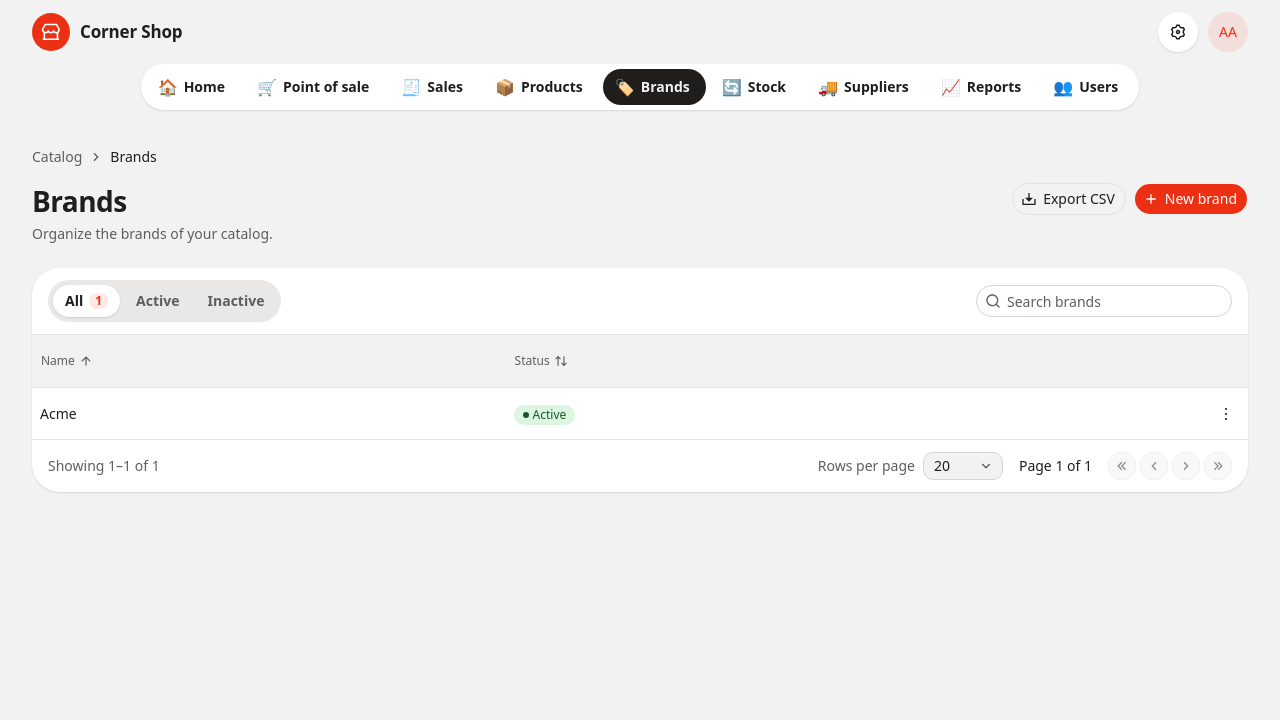
BrandListPage › deactivates a brand after confirmation
Check: the button "Acme" is shown, box [40,404,77,424]
Step 1. Click the button named "Actions" → (1226, 414), box [1212,400,1240,428]
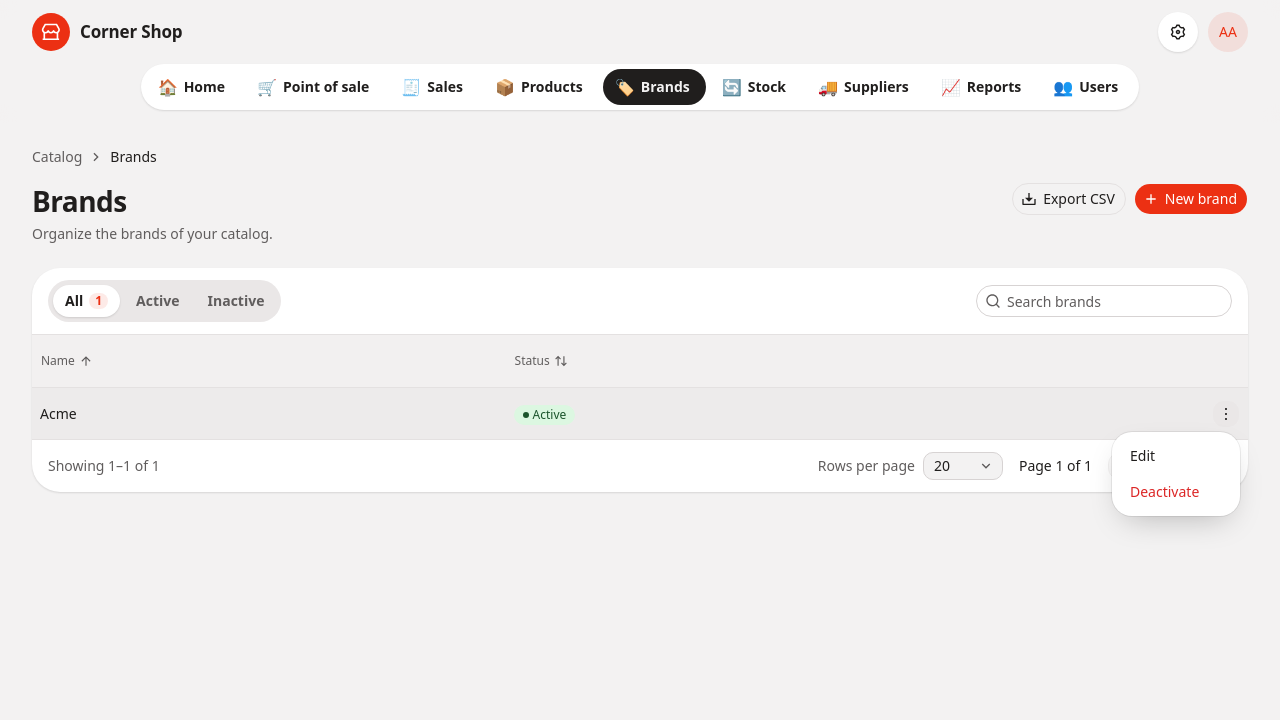
Step 2. Click the menu item "Deactivate" → (1165, 492), box [1130,482,1199,501]
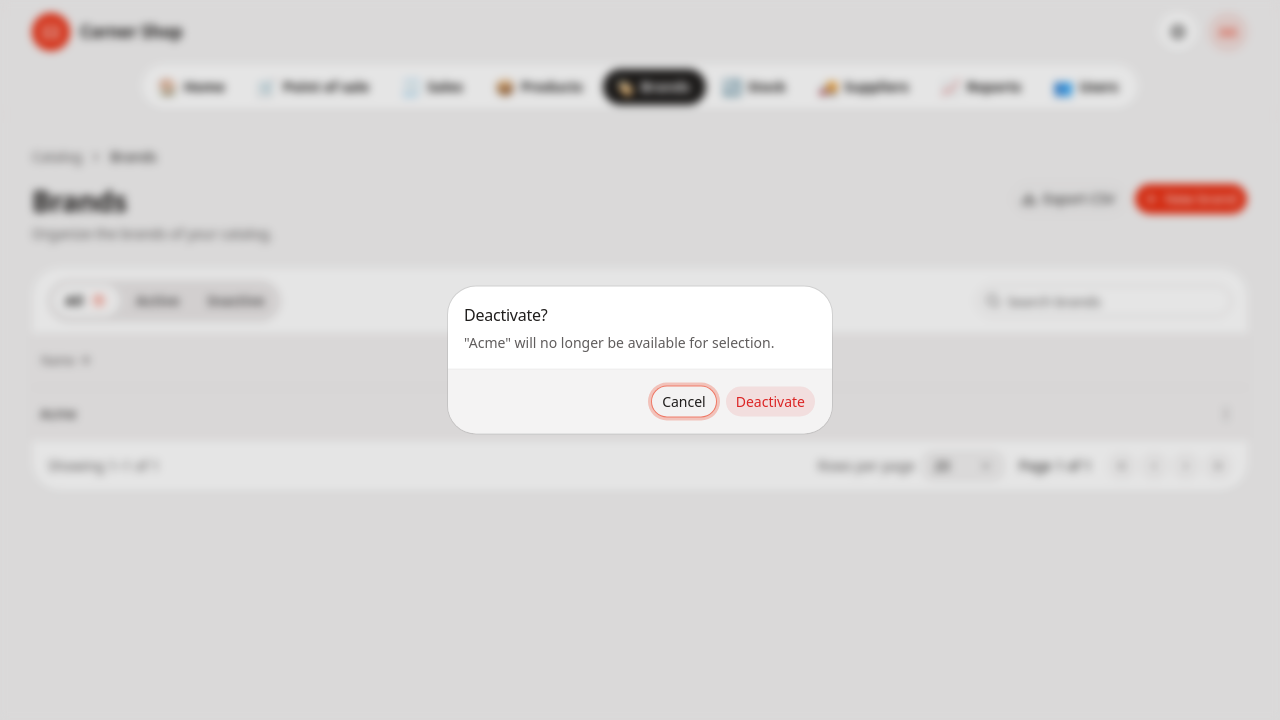
Step 3. Click the button "Deactivate" → (770, 402), box [725,386,816,418]
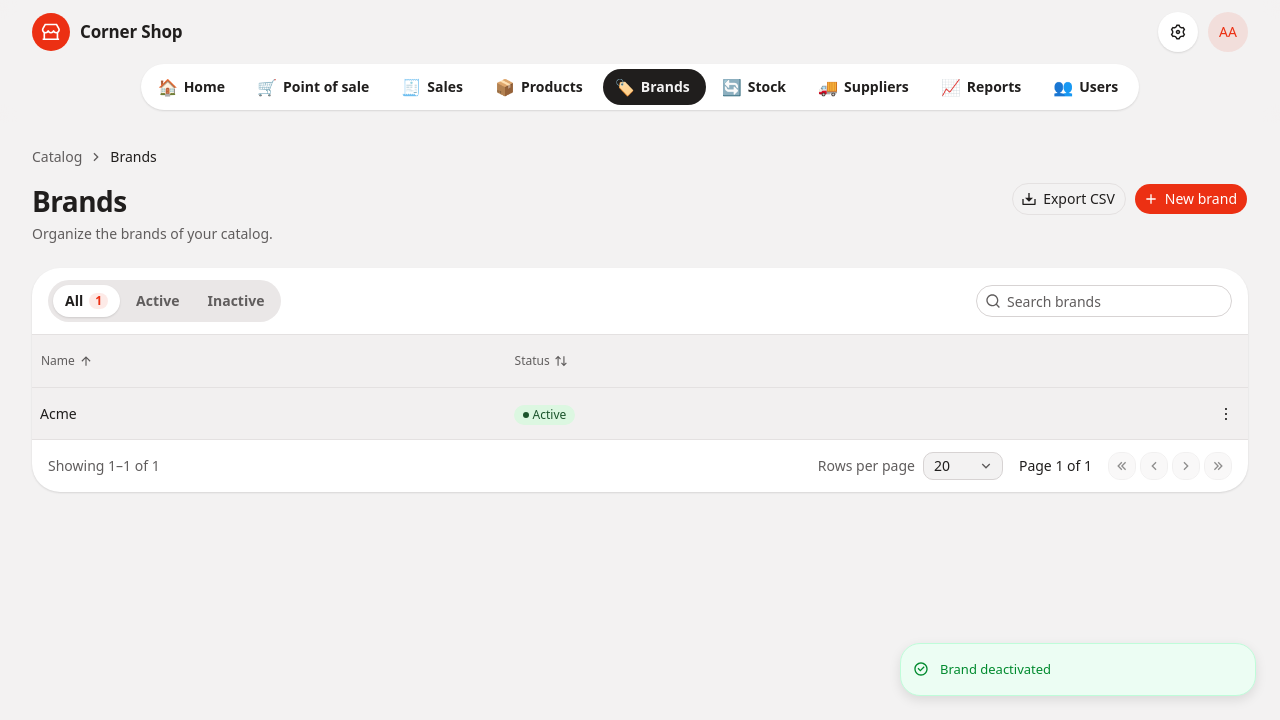
Check: the text "Brand deactivated" is shown, box [940,660,1051,679]
Check: the dialog is gone
